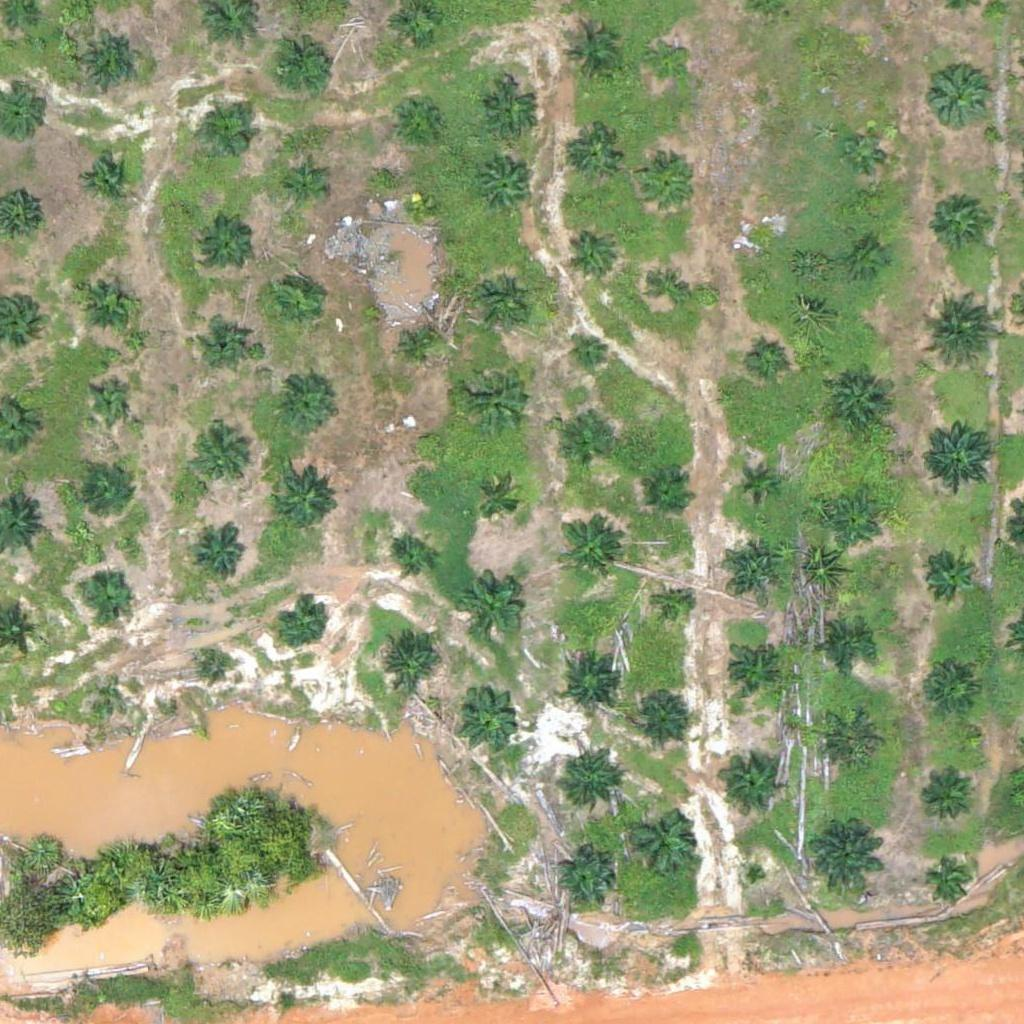Kelapa_Sawit: (265, 29, 340, 105), (460, 355, 535, 431), (807, 817, 882, 893), (621, 804, 696, 880), (919, 298, 994, 373), (921, 412, 996, 487), (720, 534, 783, 597), (457, 575, 520, 638), (925, 62, 988, 125), (479, 80, 542, 143), (79, 30, 142, 93), (554, 752, 617, 815), (453, 684, 516, 747), (721, 753, 784, 816), (553, 849, 616, 912), (556, 516, 618, 579), (273, 464, 335, 527), (824, 372, 886, 435), (926, 189, 988, 252), (191, 427, 253, 490), (471, 272, 533, 335), (559, 24, 621, 87), (270, 374, 332, 437), (77, 269, 139, 332), (820, 712, 882, 775), (376, 629, 438, 692), (476, 159, 538, 221), (561, 654, 623, 716), (628, 682, 690, 744), (826, 499, 876, 550), (921, 550, 971, 601), (80, 565, 130, 616), (84, 466, 134, 517), (81, 154, 131, 205), (925, 663, 975, 714), (821, 621, 871, 671), (195, 531, 245, 581), (276, 598, 326, 648), (202, 315, 252, 365), (205, 109, 255, 159), (201, 219, 251, 269), (391, 92, 441, 142), (572, 127, 622, 177), (642, 159, 692, 209), (555, 422, 605, 472), (268, 275, 318, 325), (920, 774, 970, 824), (725, 644, 775, 694), (926, 855, 976, 905), (641, 469, 691, 519), (472, 478, 522, 528), (387, 535, 437, 585), (395, 318, 445, 368), (567, 231, 617, 281), (283, 165, 321, 203), (657, 590, 695, 628), (570, 333, 608, 371), (647, 44, 685, 82), (745, 227, 783, 265), (651, 269, 689, 307), (850, 243, 887, 281), (736, 465, 773, 503), (750, 341, 788, 378), (90, 382, 127, 420), (845, 131, 882, 168), (201, 651, 226, 676), (404, 193, 429, 218), (411, 428, 436, 453), (106, 685, 131, 710)
